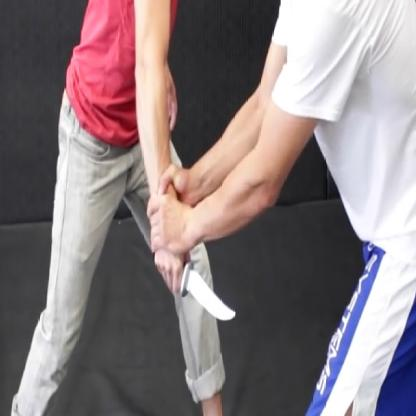knife: (147, 250, 240, 335)
